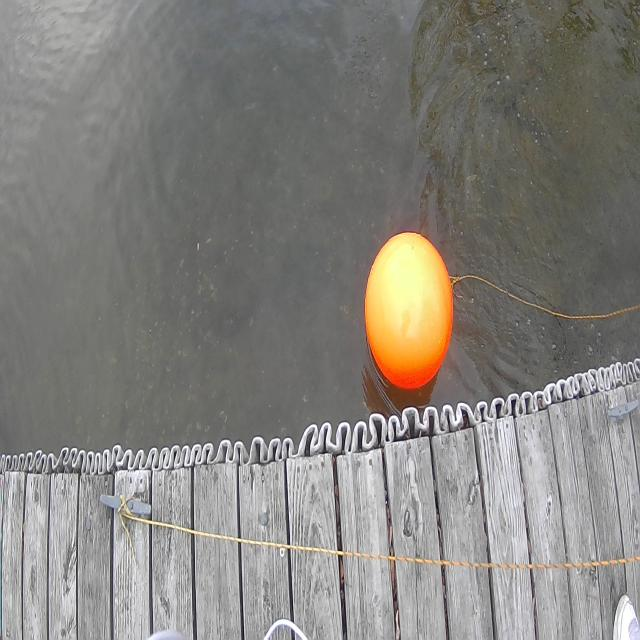Buoy: (360, 218, 459, 408)
